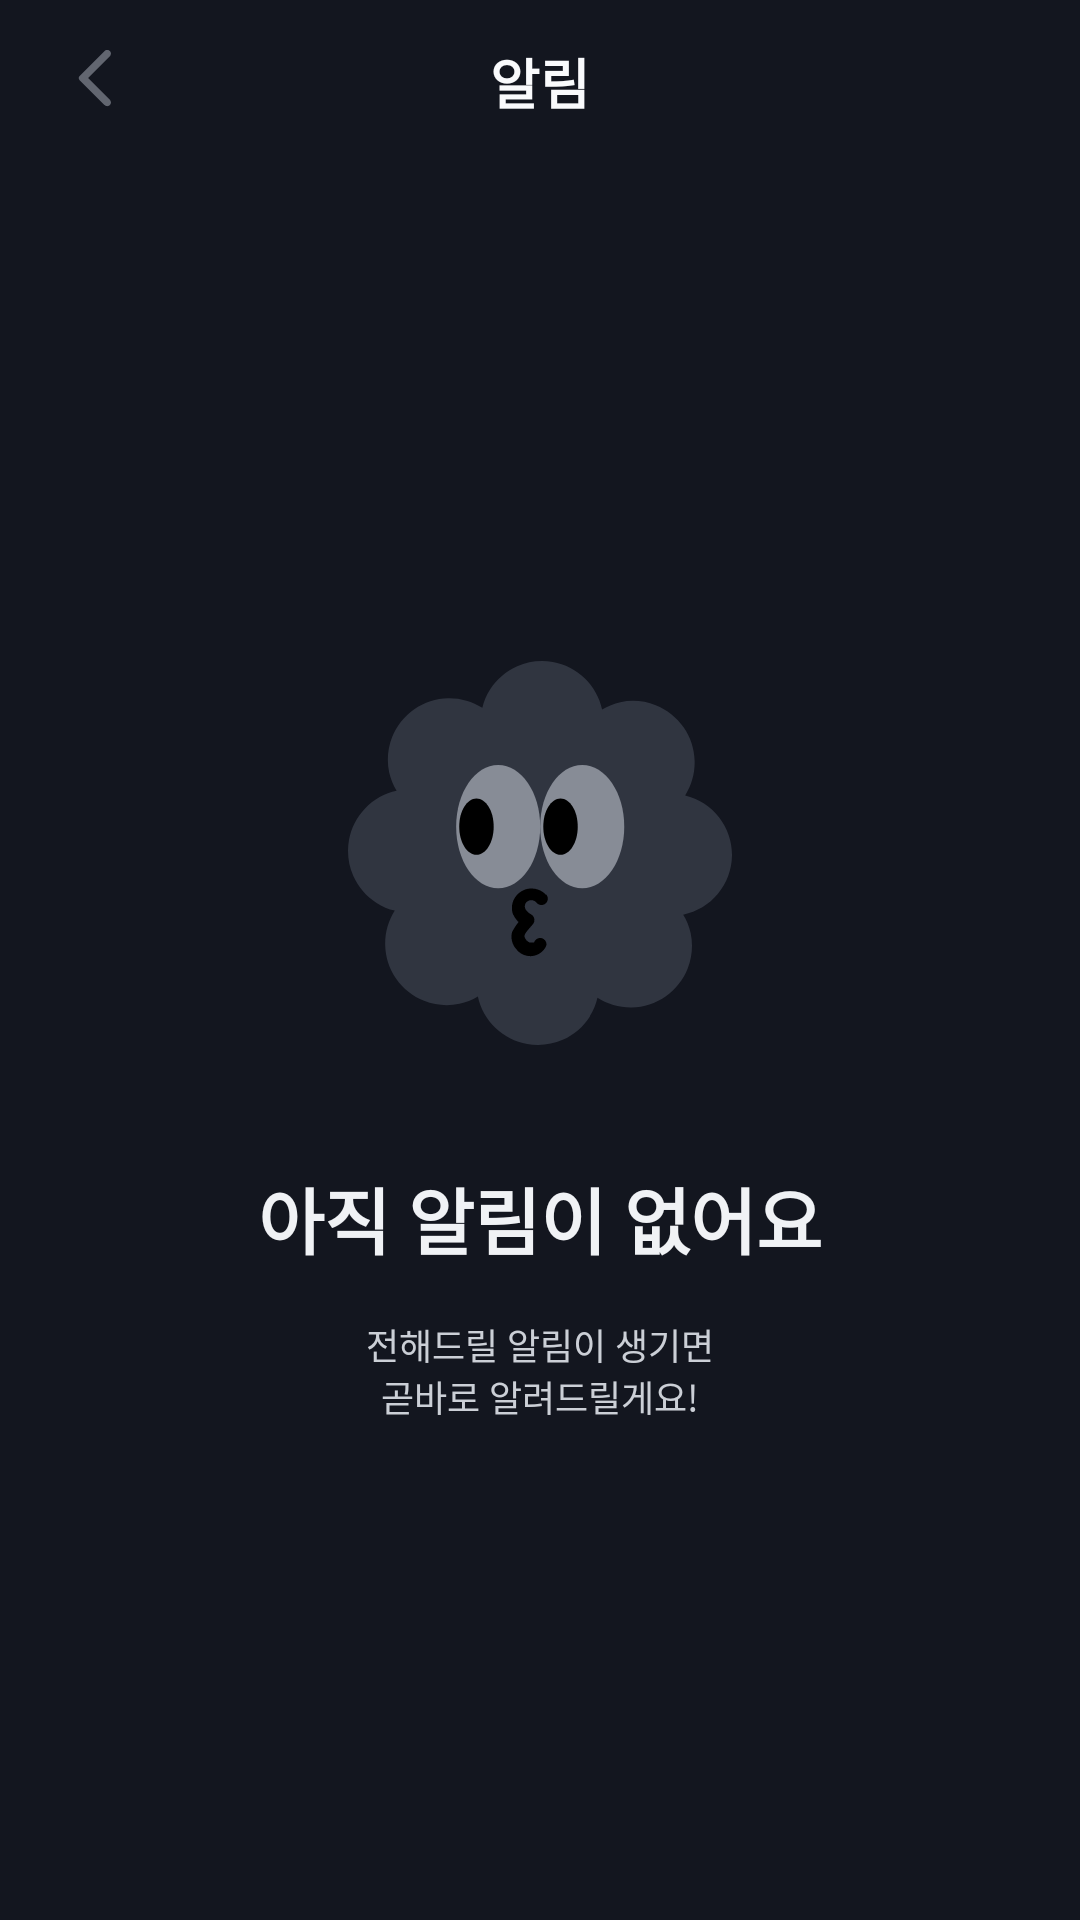

Named icons in this screenshot (1080×1920) and their bounding boxes, {"x1": x1, "y1": y1, "x2": x2, "y2": y2}:
back: {"x1": 79, "y1": 50, "x2": 111, "y2": 106}
